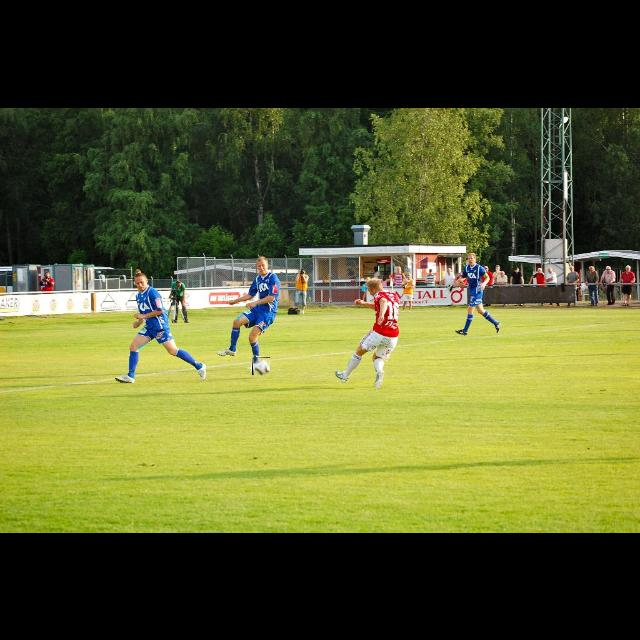Football: (252, 357, 270, 375)
